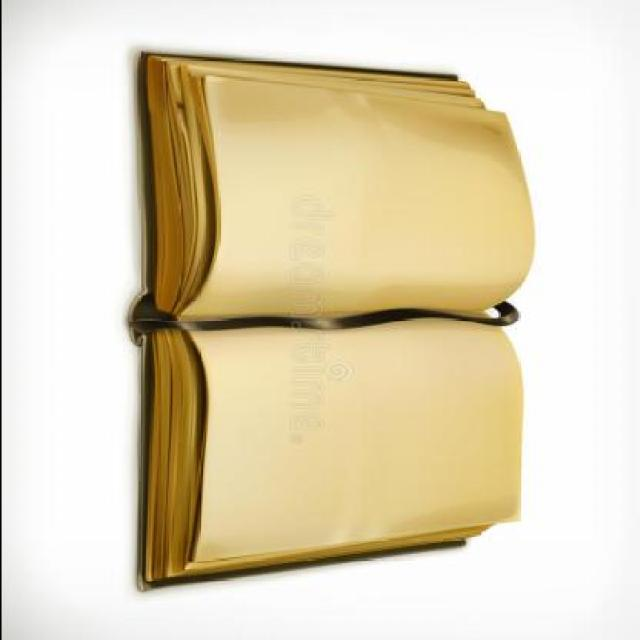book: (107, 27, 548, 625)
